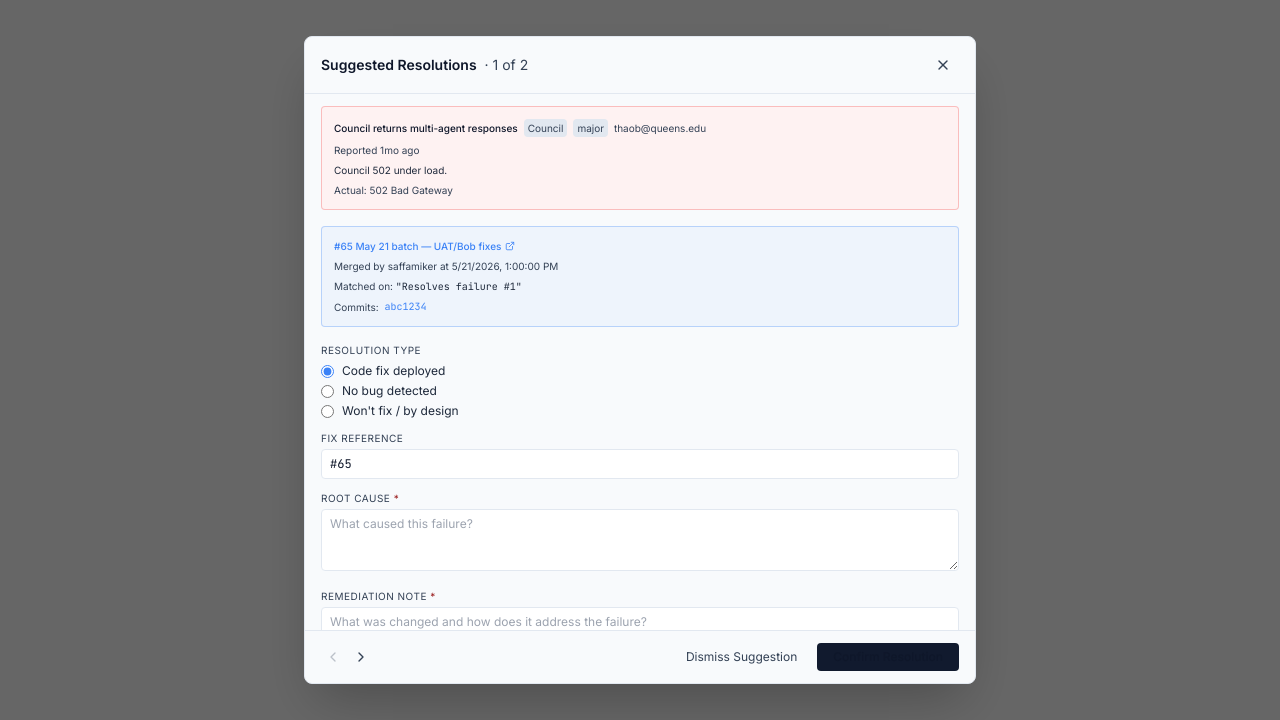
Scenario: SuggestionReviewModal — pagination and scoping › renders "1 of N" with multiple suggestions and navigates Next/Prev
Expected: the text "· 1 of 2" is shown, [485, 56, 528, 73]
Expected: the text "\"Resolves failure #1\"" is shown, [396, 280, 522, 293]
Click the button named "next suggestion". click: (361, 657)
box: [349, 645, 373, 669]
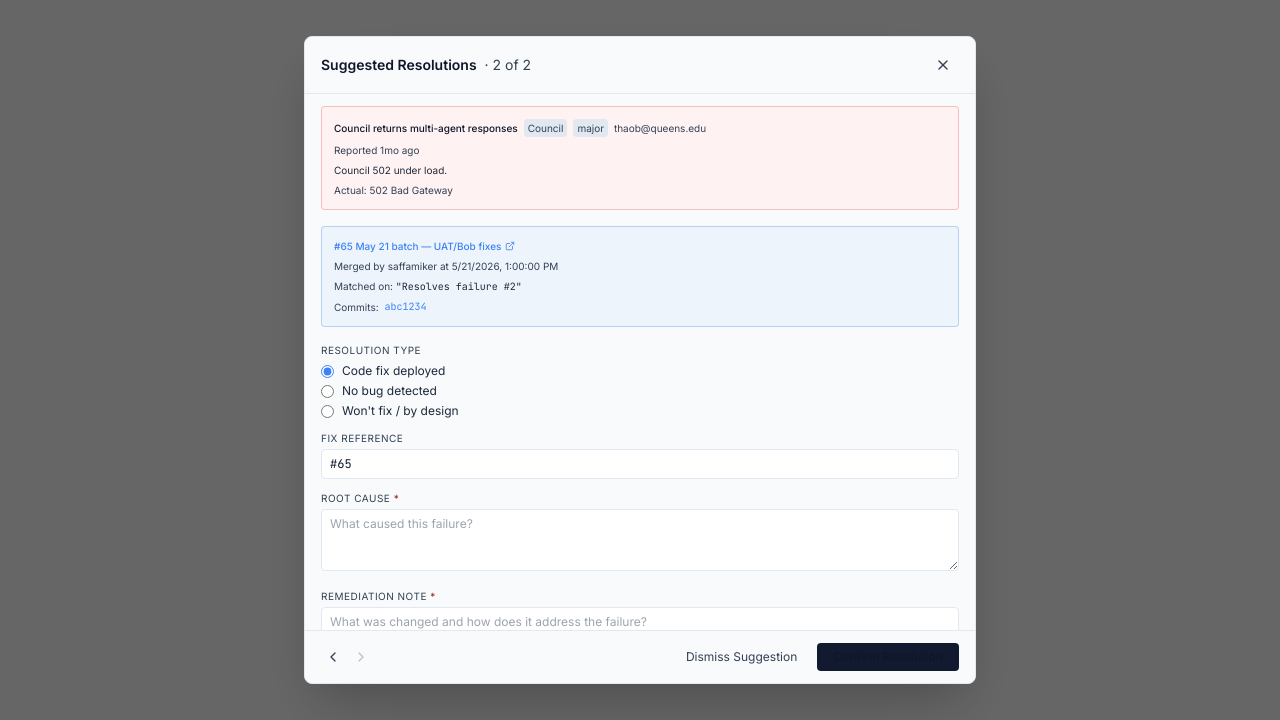
Expected: the text "\"Resolves failure #2\"" is shown, [396, 280, 522, 293]
Click the button named "previous suggestion". click: (333, 657)
box: [321, 645, 345, 669]
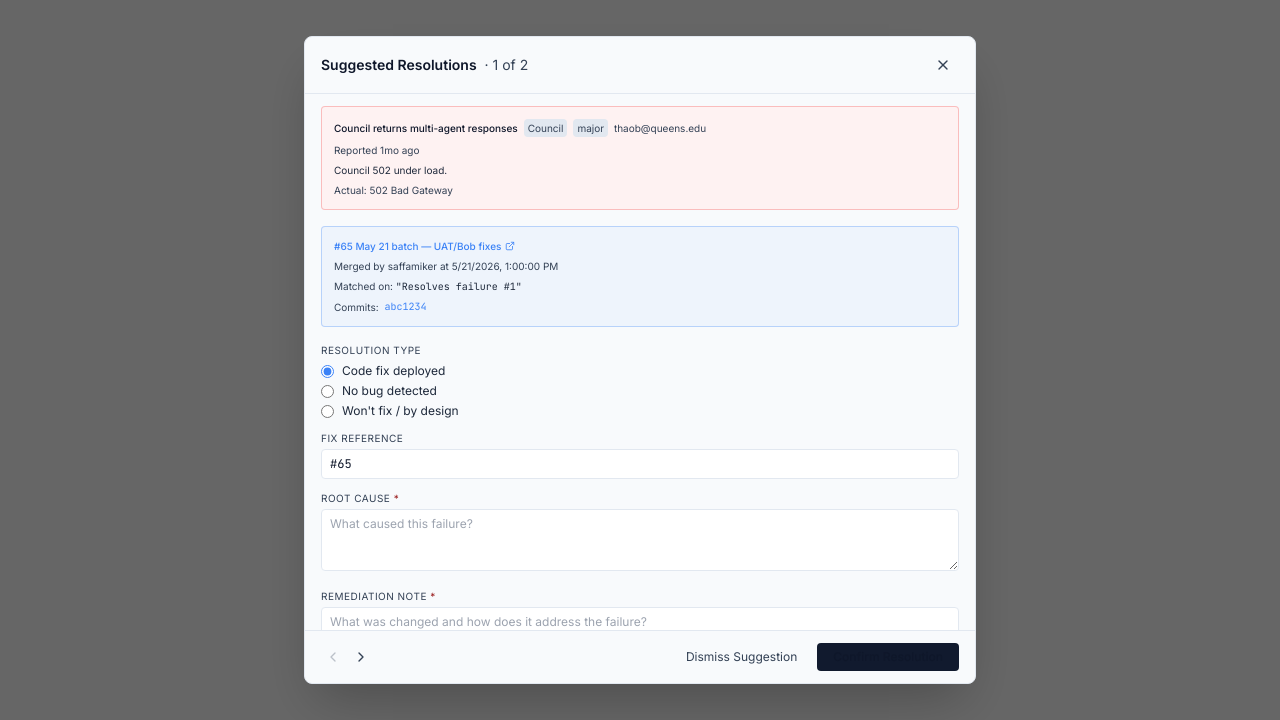
Expected: the text "\"Resolves failure #1\"" is shown, [396, 280, 522, 293]
